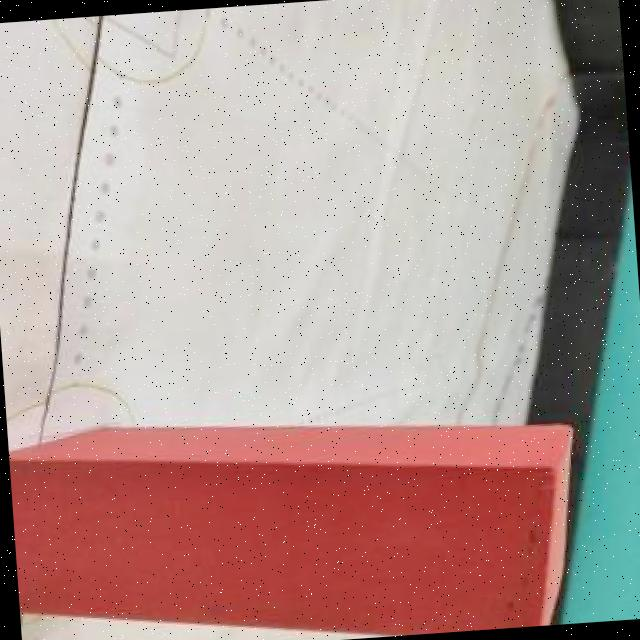redbox: (9, 416, 582, 628)
